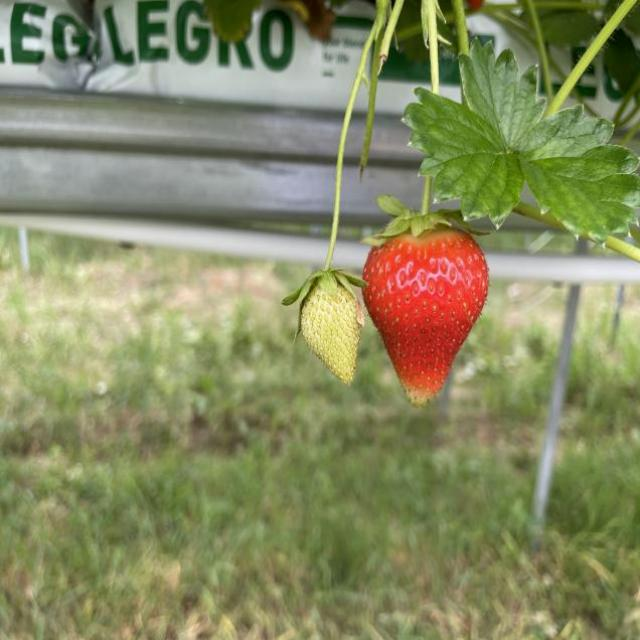stem: (283, 20, 380, 304), (372, 176, 470, 245), (423, 0, 439, 92)
strawberryNR: (301, 282, 362, 384)
strawberryR: (362, 228, 488, 406)
